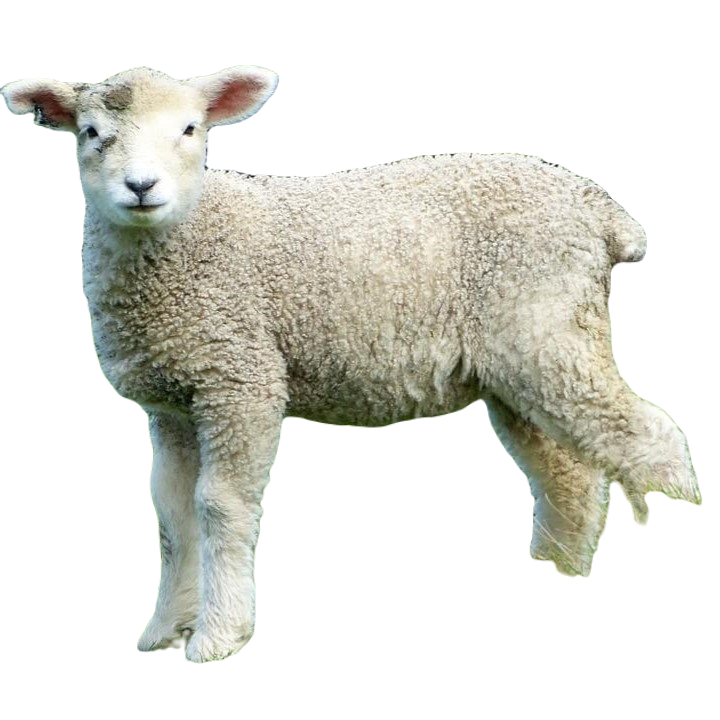Sheep: (1, 61, 708, 666)
